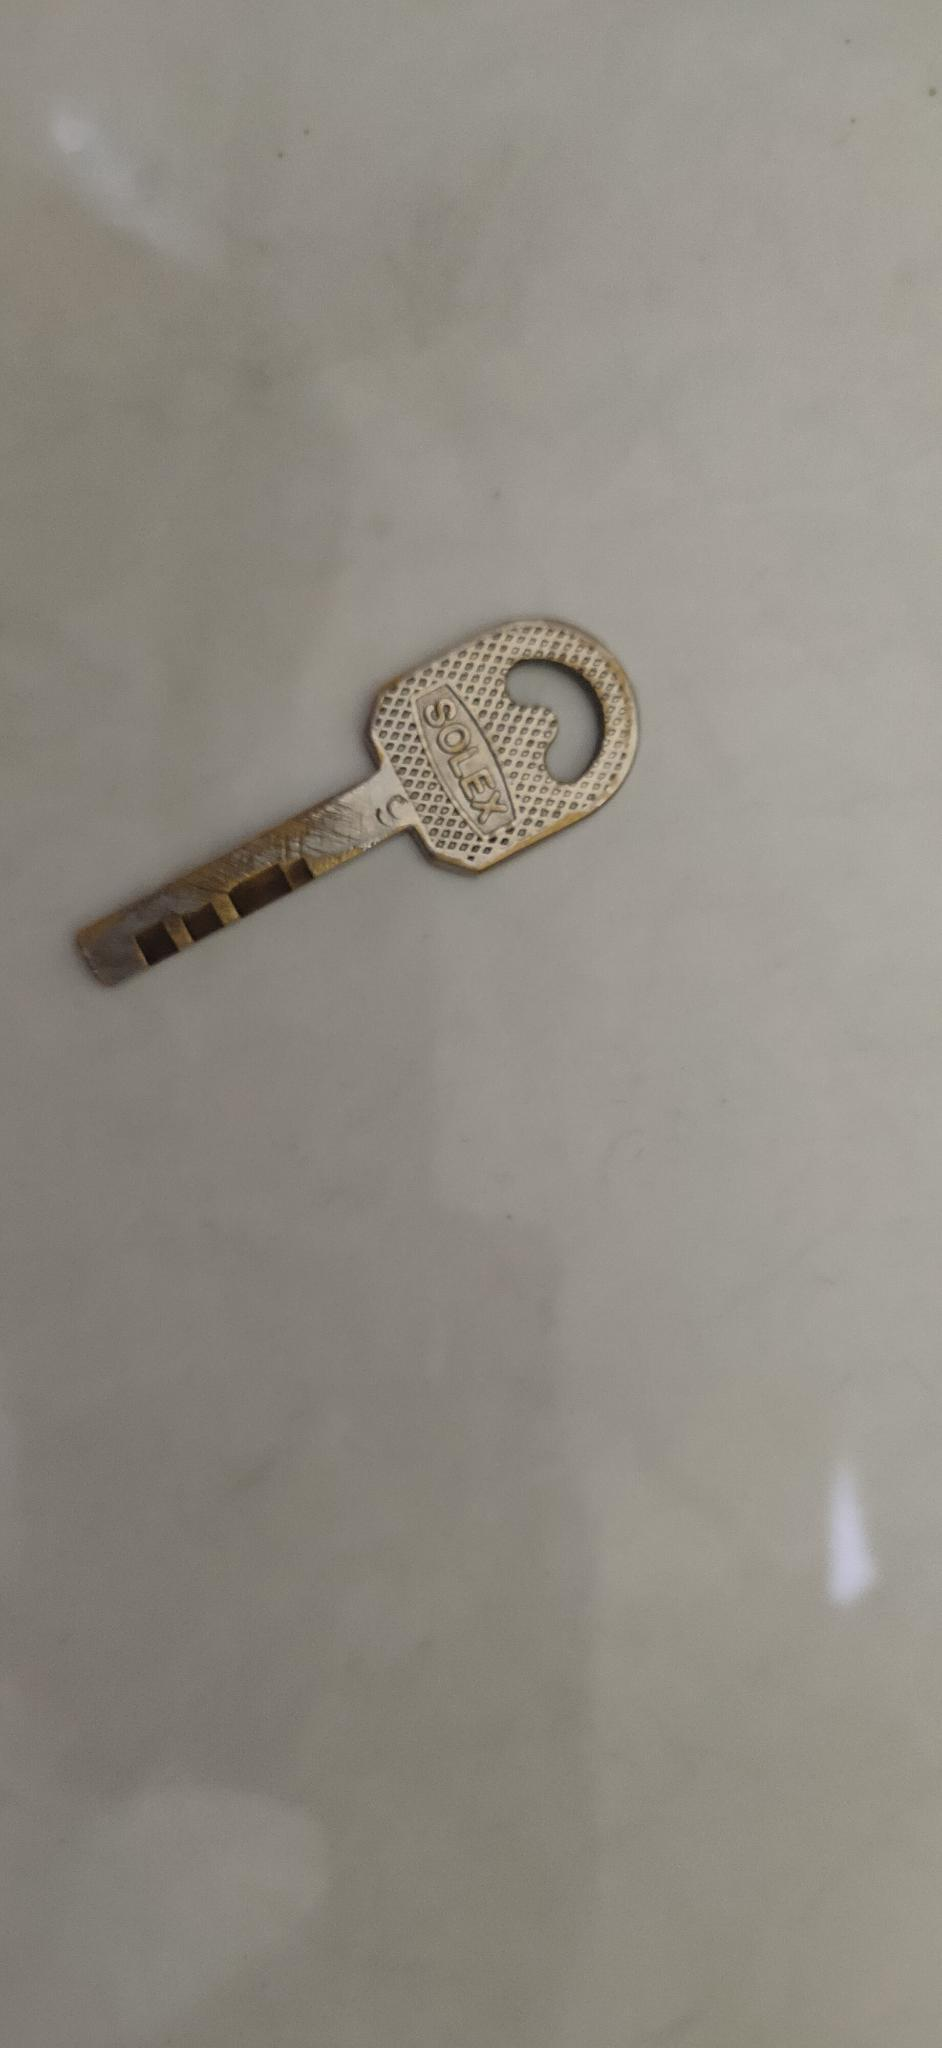keys: (59, 596, 645, 1019)
